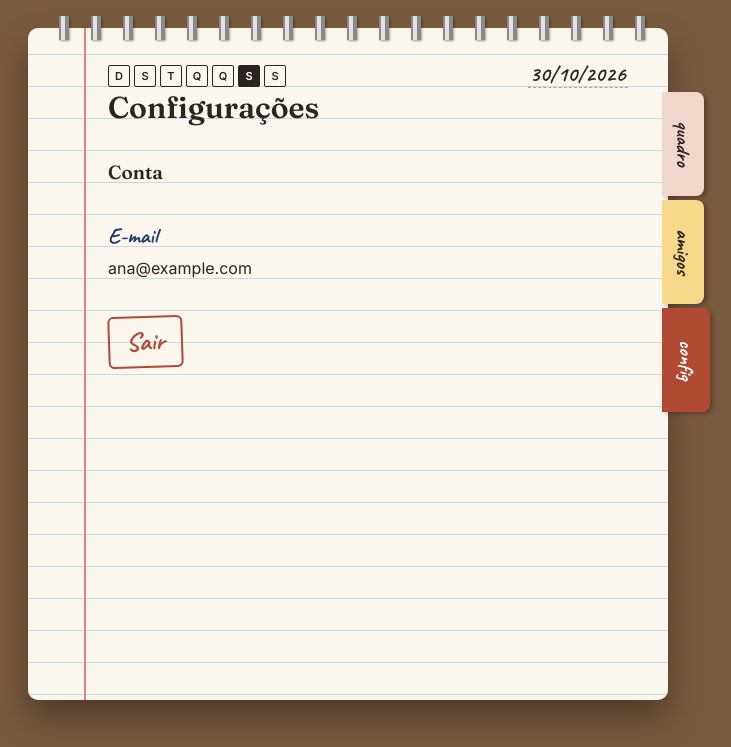
it: App navigation › keeps the session visible when logout fails
What coordinates should you click on to do the following:
click the button named "logout"
I would click on:
 (145, 342)
Its box is [107,315,184,369].
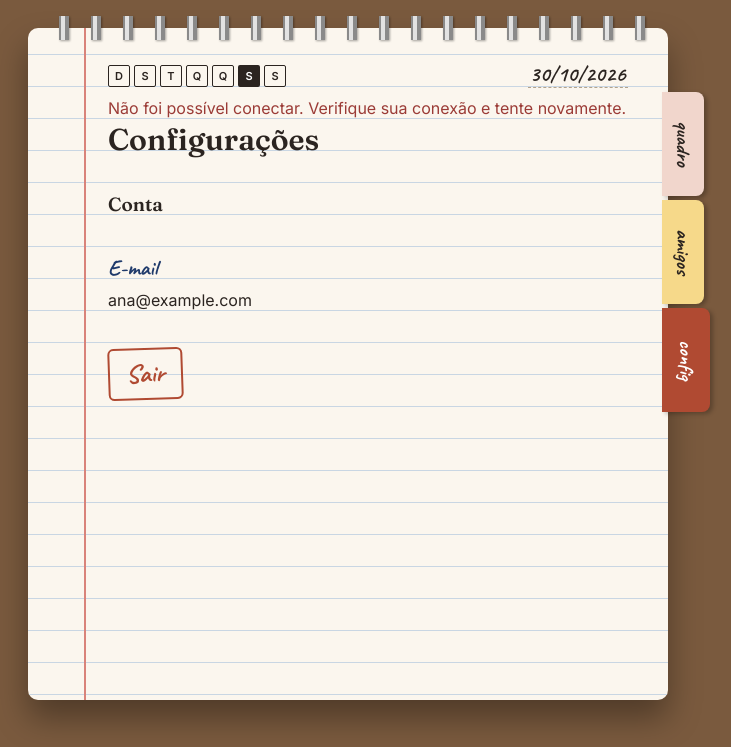
Expected: the text "ana@example.com" is shown, [108,284,252,316]
Expected: the message "Não foi possível conectar. Verifique sua conexão e tente novamente." is shown, [108,92,628,124]
